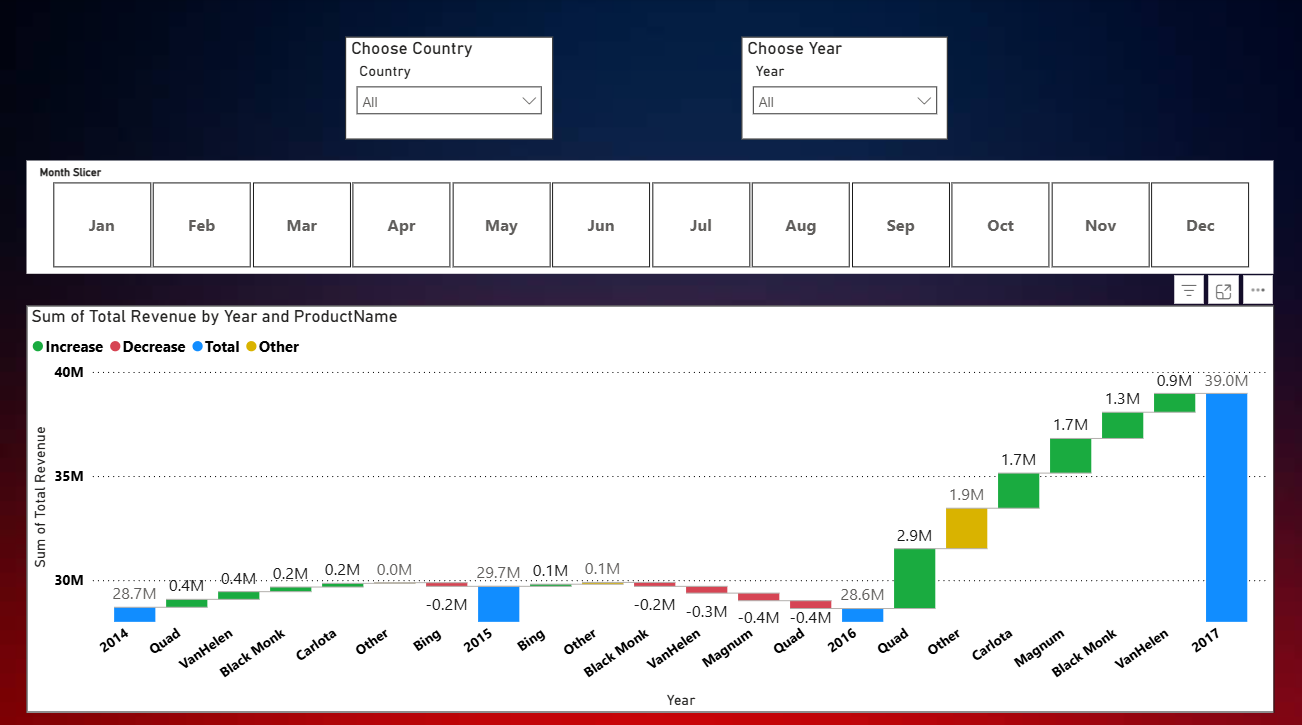

The page's visual inventory and layout, read from the dashboard file:
{"tool":"powerbi","page":{"name":"Revenue by Country/Year","canvas":[1280,720],"ordinal":2},"visuals":[{"type":"slicer","fields":{"Values":["CalendarMaster.MonthName"]},"box":[27.1,160,1224.3,111.4],"z":0},{"type":"slicer","title":"Choose Country","fields":{"Values":["DimGeography.Country"]},"box":[339.9,38,203.7,100.6],"z":1000},{"type":"slicer","title":"Choose Year","fields":{"Values":["CalendarMaster.Year"]},"box":[728.8,38,202.5,100.6],"z":2000},{"type":"waterfallChart","fields":{"Category":["CalendarMaster.Year"],"Y":["Sum(FactSales.Total Revenue)"],"Breakdown":["DimProducts.ProductName"]},"box":[27.1,301.4,1224.3,400],"z":3000}]}

Visuals, with their boxes in screenshot pixels (x1, y1, x2, y2), scaled from the page's 1280x720 canvas onto the 1302x725 screenshot:
slicer - CalendarMaster.MonthName: x1=28 y1=161 x2=1273 y2=273
"Choose Country" slicer: x1=346 y1=38 x2=553 y2=140
"Choose Year" slicer: x1=741 y1=38 x2=947 y2=140
waterfallChart - CalendarMaster.Year x Sum(FactSales.Total Revenue): x1=28 y1=303 x2=1273 y2=706
